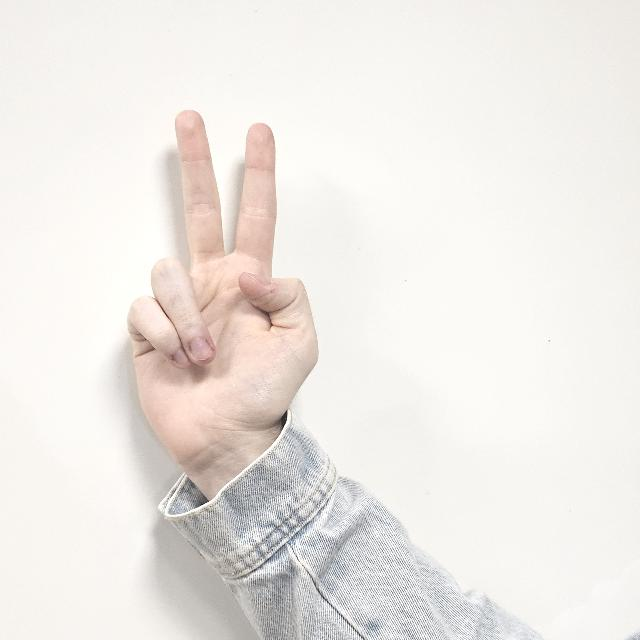Triangulo: (123, 108, 320, 440)
